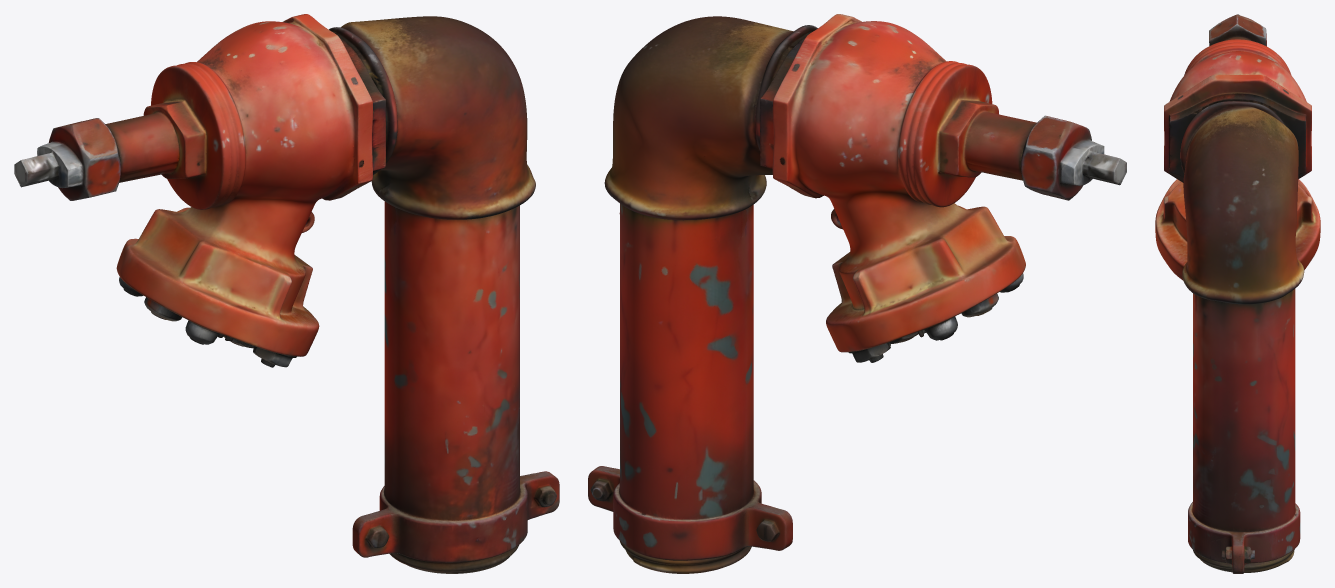
File: Meshy_AI_Fire_Hydrant_0212125849_texture.fbx
3 views of the same model, side by side, from view 1: azimuth 30°, elevation 25°; view 2: azimuth 150°, elevation 25°; view 3: azimuth 270°, elevation 25° (orthographic). The views are drawn at different scales.
Parts seen in each view (by area): view 1: Mesh_0; view 2: Mesh_0; view 3: Mesh_0.
Part boxes in pixels (box(x1,y1,x2,y2)): Mesh_0: box(14, 14, 559, 573); Mesh_0: box(588, 14, 1126, 573); Mesh_0: box(1155, 14, 1320, 573).
Bounding box in the file's own units: 198 × 200 × 69.56.
Materials: 1 (1 with a texture image).
